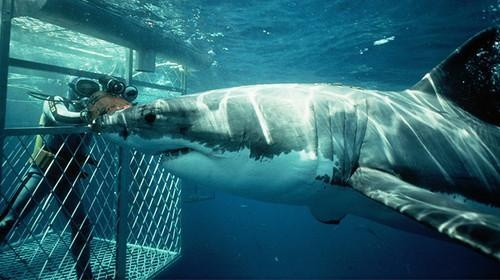fish: (86, 26, 500, 256)
